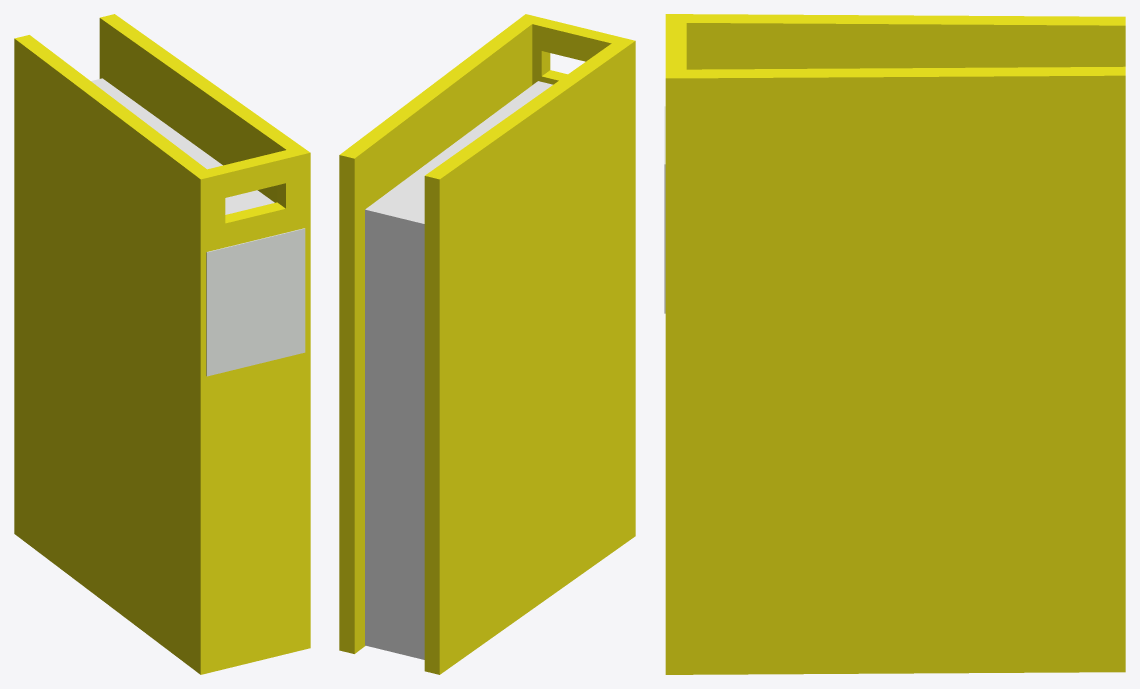
The model's file is Folder_1b.fbx.
3 renders of one model, left to right at view 1: azimuth 30°, elevation 25°; view 2: azimuth 150°, elevation 25°; view 3: azimuth 270°, elevation 25°, orthographic. The views are drawn at different scales.
Visible parts, largest first — view 1: Folder_1b; view 2: Folder_1b; view 3: Folder_1b.
Boxes of the visible parts, bbox=[...] form: Folder_1b: bbox=[14, 14, 310, 674]; Folder_1b: bbox=[339, 14, 635, 674]; Folder_1b: bbox=[664, 14, 1125, 674].
Bounding box in the file's own units: 0.0835 × 0.3602 × 0.2525.
